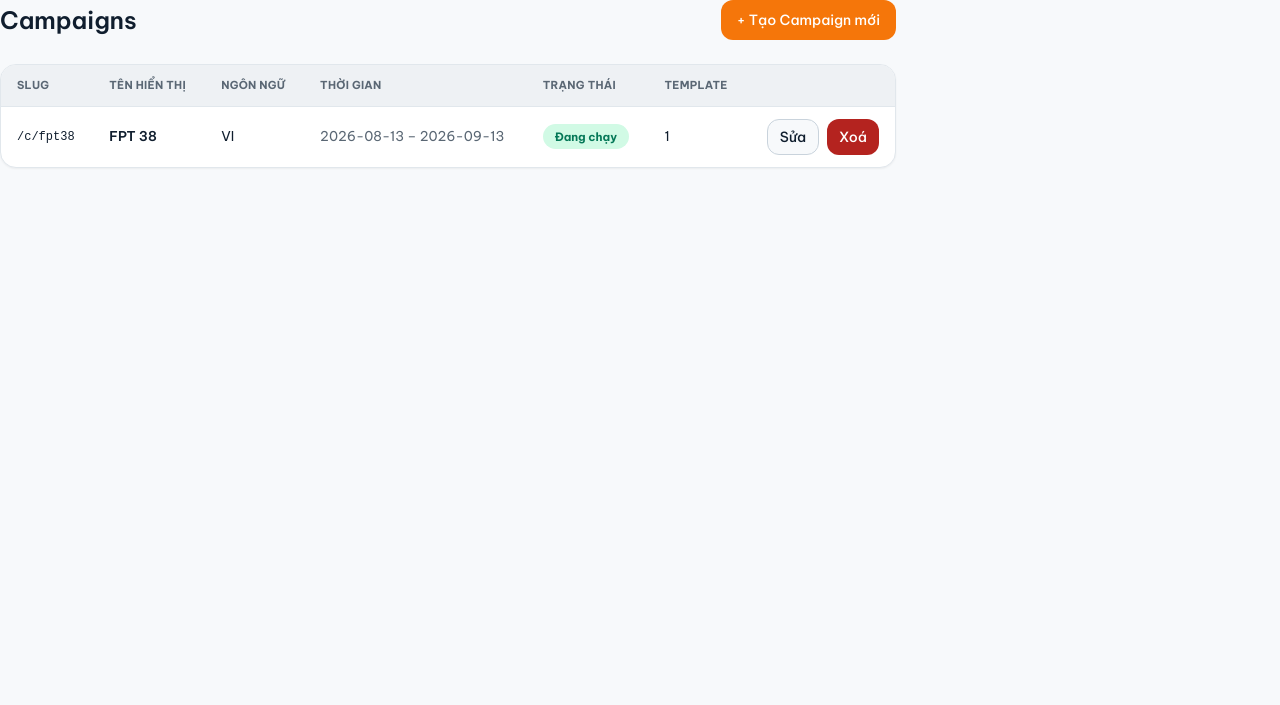
Test case: AdminCampaignsPage merged frames section › shows the frames grid for an existing campaign being edited, not for a brand-new one
expect the text "FPT 38" is shown: met, box [93,106,205,166]
Click the button "Sửa". click: (793, 136)
box: [767,118,819,154]
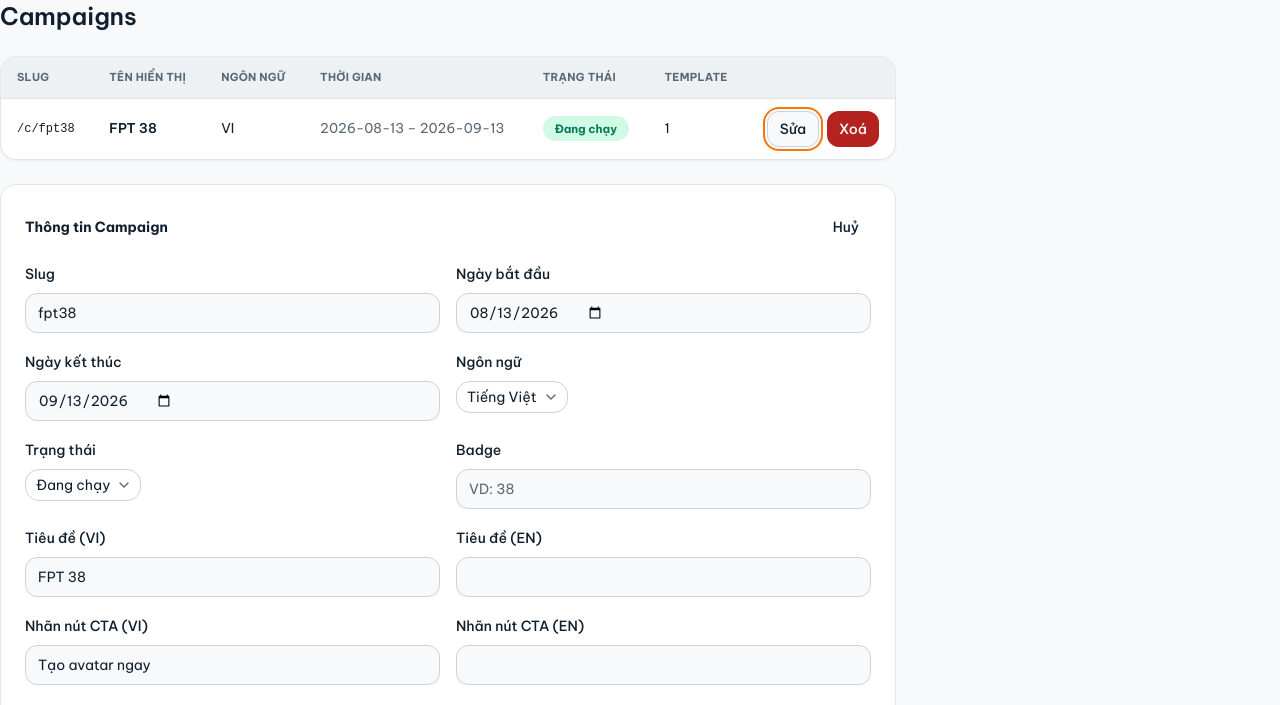
Click the button "Huỷ". click: (846, 226)
box: [821,208,871,244]
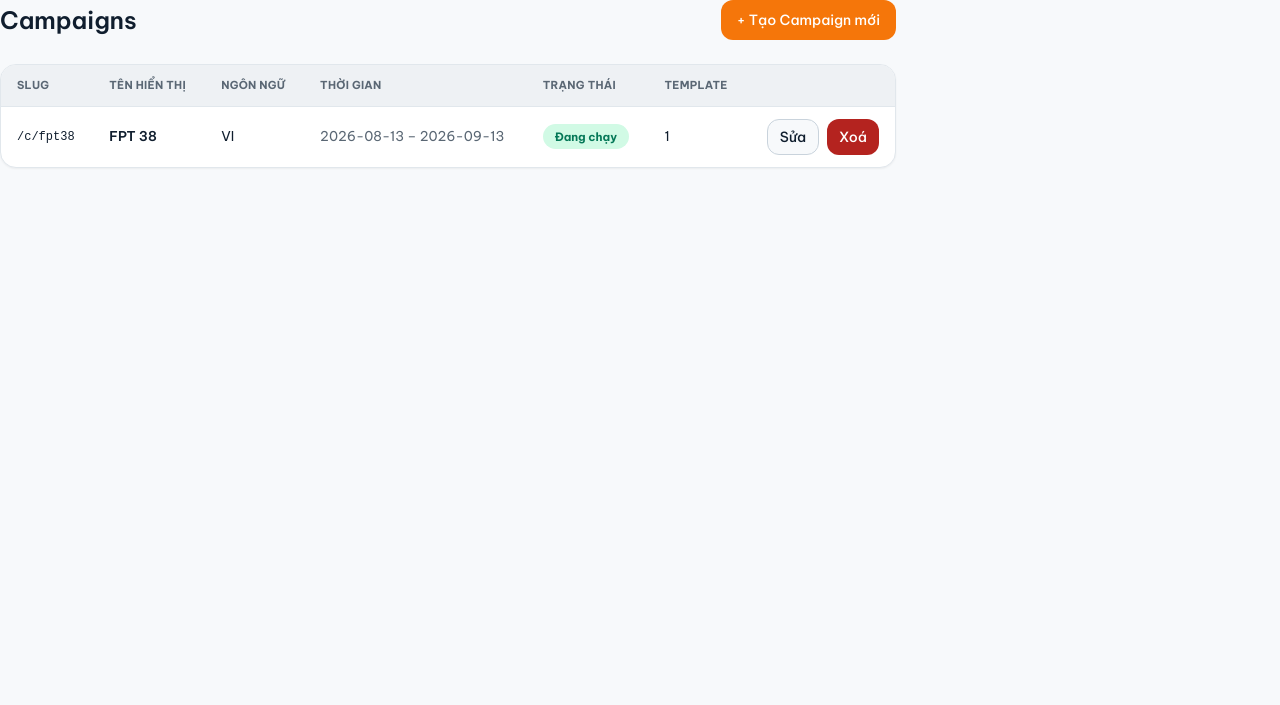
Click the button "+ Tạo Campaign mới". click: (808, 20)
box: [721,0,896,40]
(page scrolled)
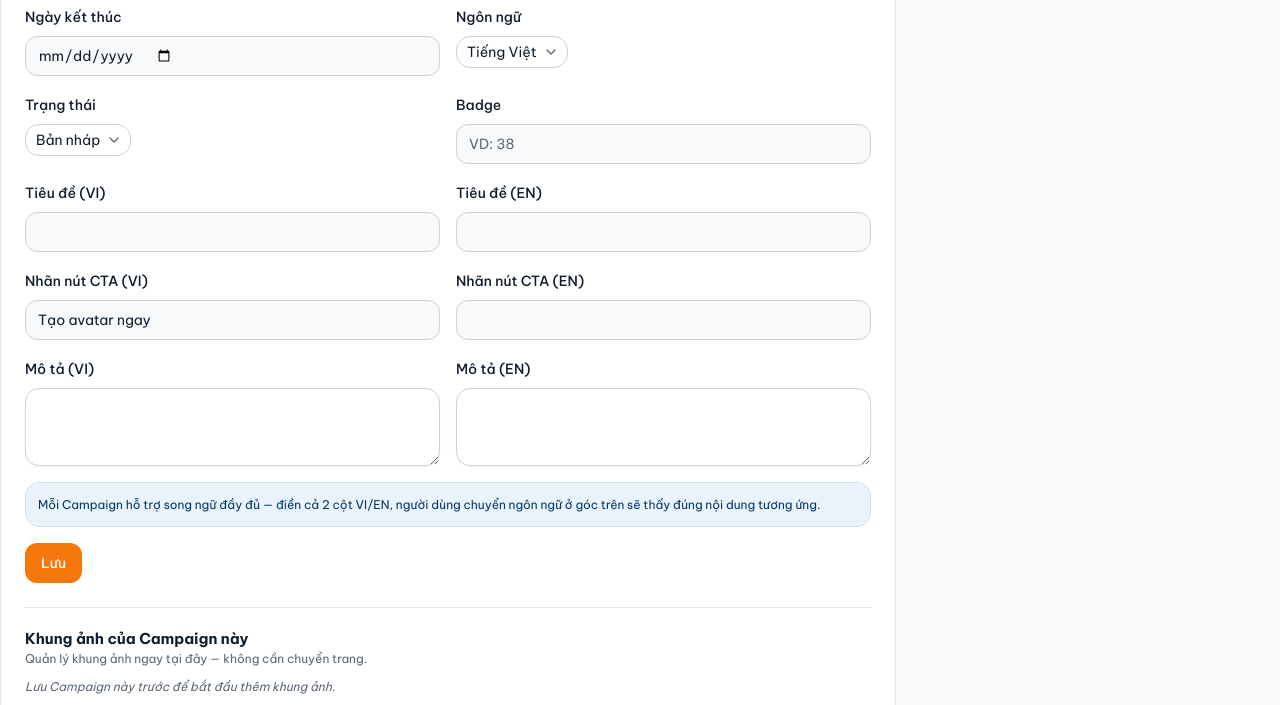
expect the text "Lưu Campaign này trước để bắt đầu thêm khung ảnh." is shown: met, box [25,678,335,694]
